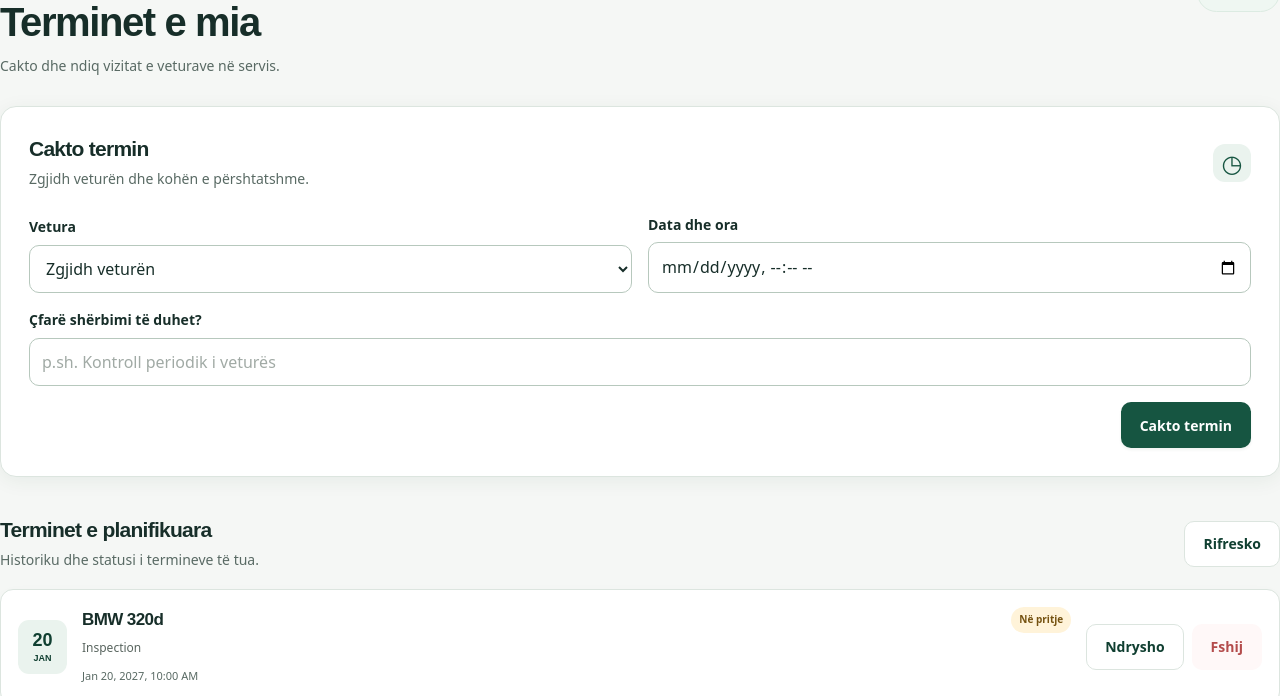
resets editing when the edited appointment is deleted
(page scrolled)
Click the button "Ndrysho" at x=1135, y=647, box [1086, 624, 1184, 670]
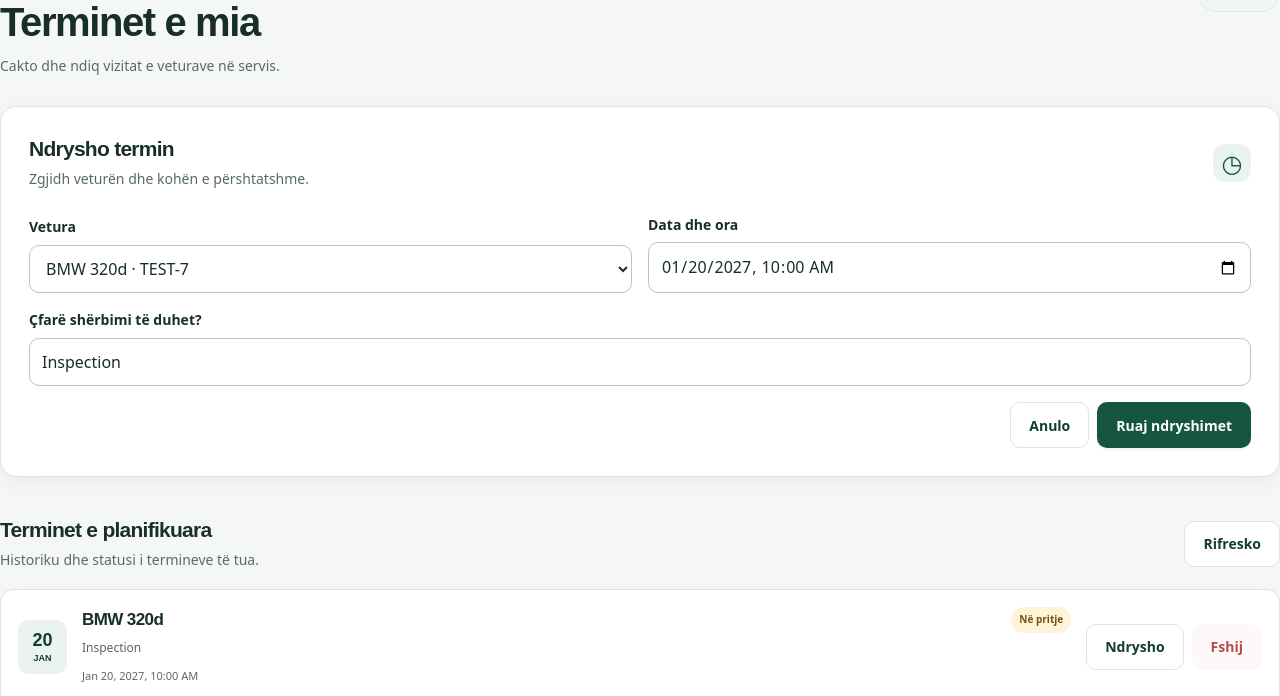
Click the button "Fshij" at x=1227, y=647, box [1192, 624, 1262, 670]
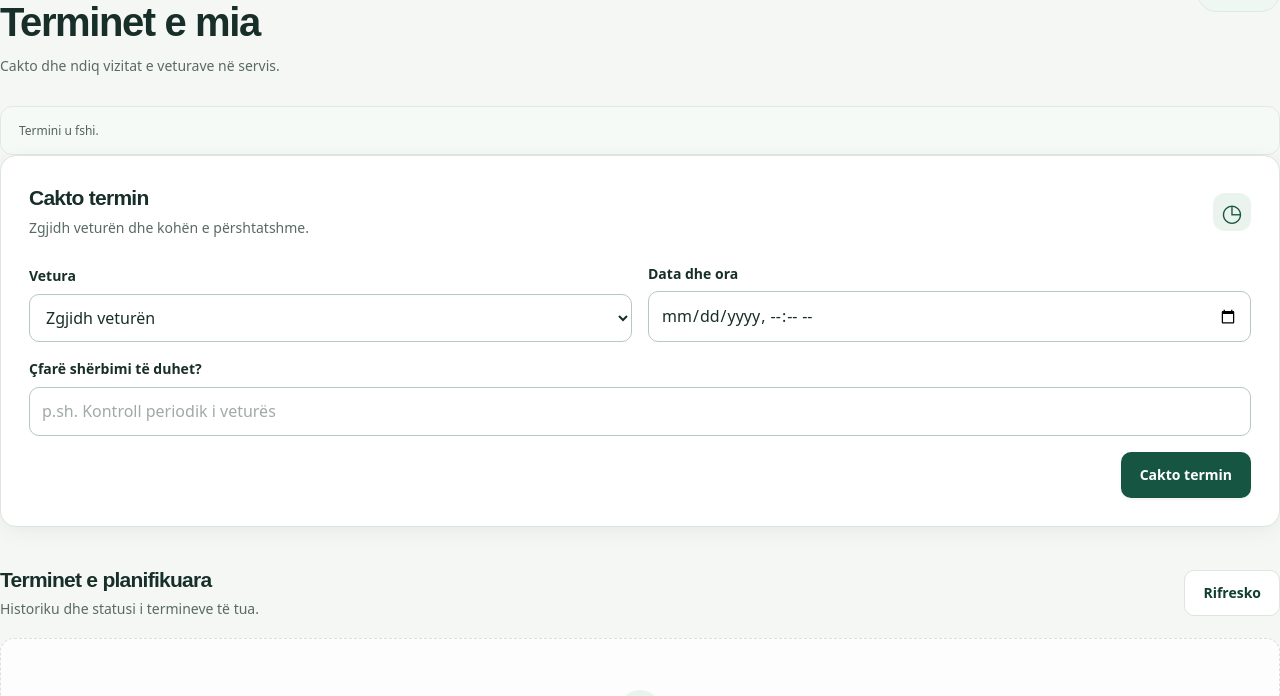
Now the button "Ruaj ndryshimet" is gone
Now the dropdown shows "Zgjidh veturën", box [29, 294, 632, 342]
